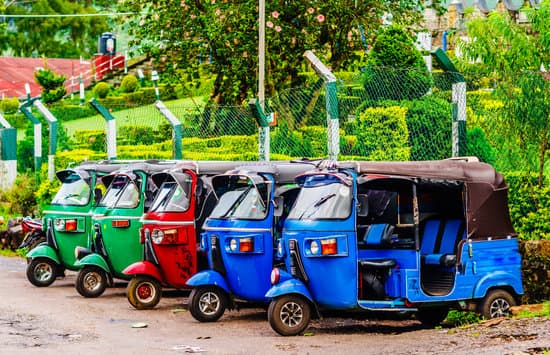threewheel: (264, 157, 525, 336), (184, 160, 315, 324), (121, 160, 228, 311), (73, 161, 157, 299), (25, 161, 97, 289)
